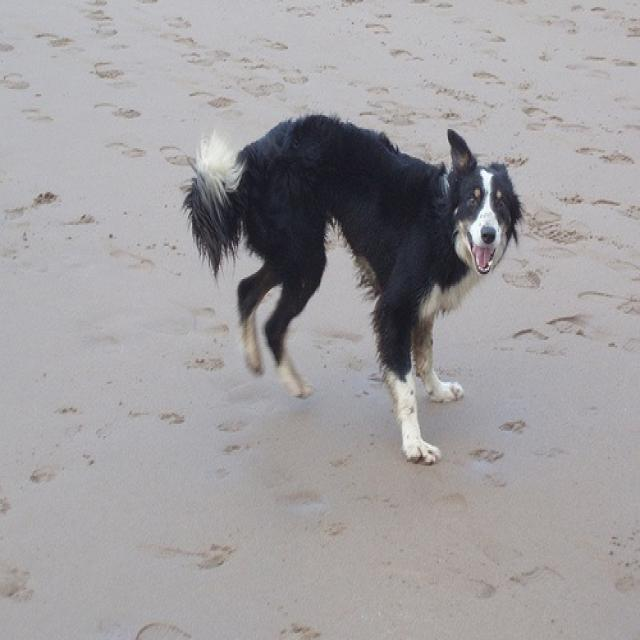dog: (179, 100, 529, 472)
